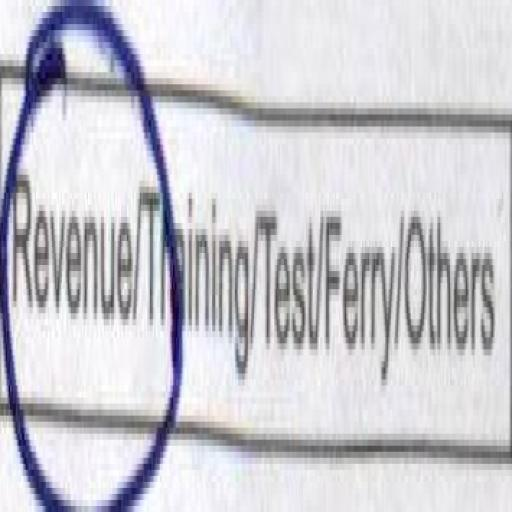check: (4, 0, 144, 512)
